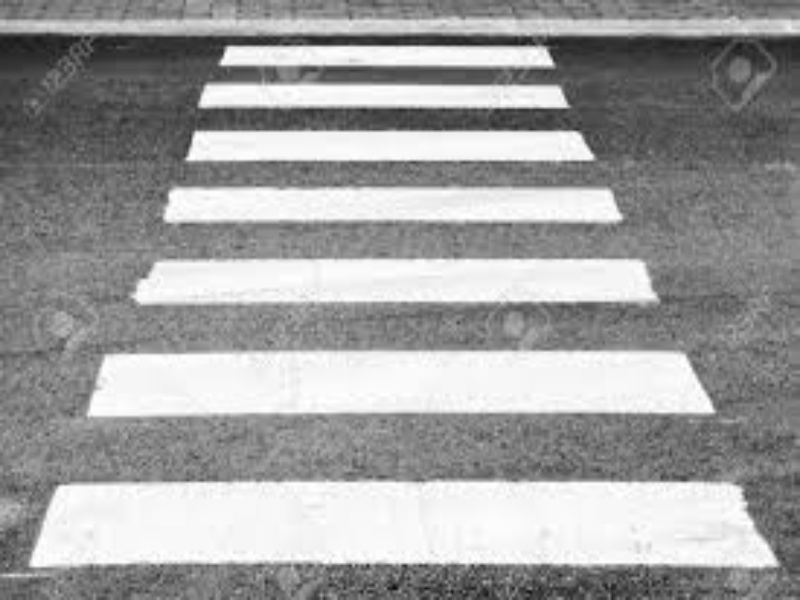zebra cross: (28, 43, 780, 568)
